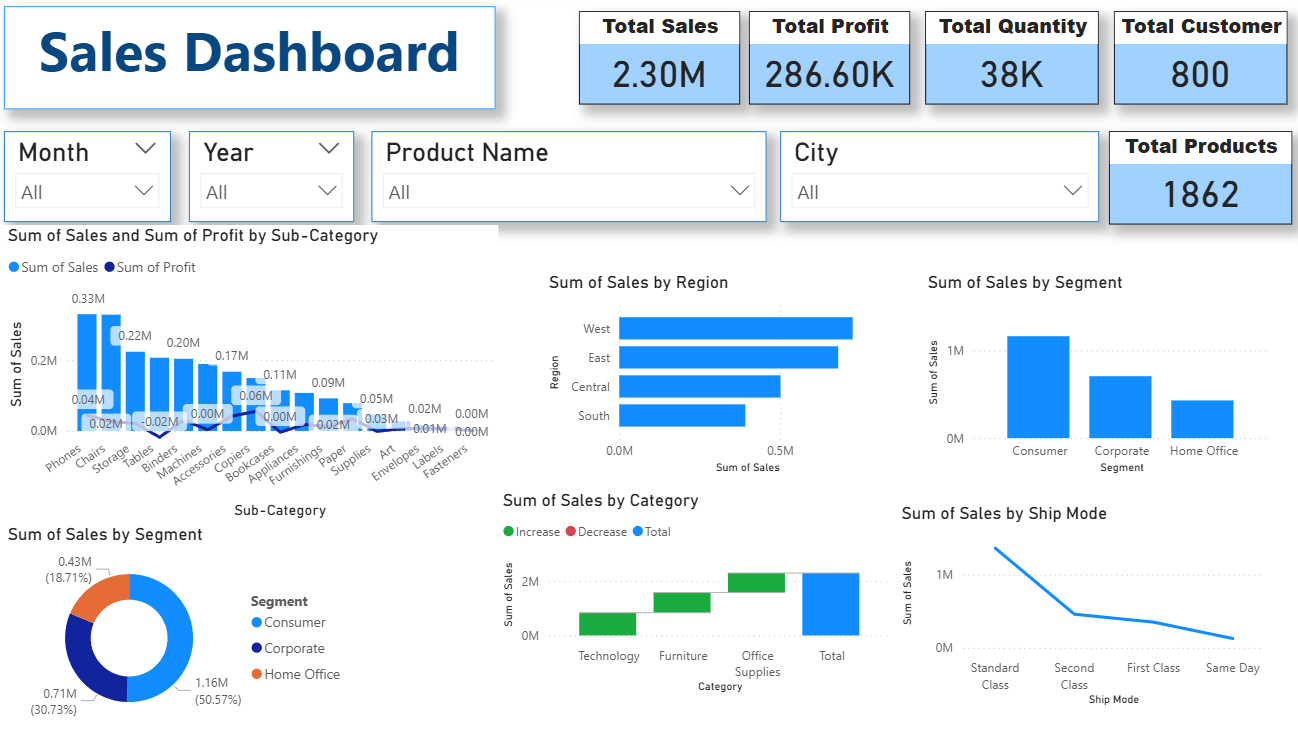

Layout of this report page (visuals, bound fields, positions):
{"tool":"powerbi","page":{"name":"Page 1","canvas":[1280,720],"ordinal":0},"visuals":[{"type":"textbox","box":[9.4,10.8,480.6,101],"z":0},{"type":"slicer","fields":{"Values":["Sales Overview Data xlsx - Sales Data.Product Name"]},"box":[368.9,133.3,386.4,88.9],"z":1000},{"type":"slicer","fields":{"Values":["Sales Overview Data xlsx - Sales Data.City"]},"box":[768.7,133.3,312.3,88.9],"z":2000},{"type":"slicer","fields":{"Values":["Sales Overview Data xlsx - Sales Data.Order Date.Variation.Date Hierarchy.Month"]},"box":[9.4,133.3,162.9,88.9],"z":3000},{"type":"slicer","fields":{"Values":["Sales Overview Data xlsx - Sales Data.Order Date.Variation.Date Hierarchy.Year"]},"box":[191.2,133.3,161.5,88.9],"z":4000},{"type":"card","title":"Total Sales","fields":{"Values":["Sum(Sales Overview Data xlsx - Sales Data.Sales)"]},"box":[572.2,16.2,157.5,91.5],"z":5000},{"type":"card","title":"Total Profit","fields":{"Values":["Sum(Sales Overview Data xlsx - Sales Data.Profit)"]},"box":[739.1,16.2,157.5,91.5],"z":6000},{"type":"card","title":"Total Quantity","fields":{"Values":["Sum(Sales Overview Data xlsx - Sales Data.Quantity)"]},"box":[911.4,16.2,169.6,91.5],"z":7000},{"type":"card","title":"Total Customer","fields":{"Values":["Count(Sales Overview Data xlsx - Sales Data.Customer ID)"]},"box":[1095.8,16.2,169.6,91.5],"z":8000},{"type":"card","title":"Total Products","fields":{"Values":["Count(Sales Overview Data xlsx - Sales Data.Product ID)"]},"box":[1090.5,133.3,179,91.5],"z":9000},{"type":"waterfallChart","fields":{"Category":["Sales Overview Data xlsx - Sales Data.Category"],"Y":["Sum(Sales Overview Data xlsx - Sales Data.Sales)"]},"box":[492.7,484.6,390.4,203.3],"z":10000},{"type":"barChart","fields":{"Category":["Sales Overview Data xlsx - Sales Data.Region"],"Y":["Sum(Sales Overview Data xlsx - Sales Data.Sales)"]},"box":[538.5,270.6,344.6,203.3],"z":11000},{"type":"clusteredColumnChart","fields":{"Category":["Sales Overview Data xlsx - Sales Data.Segment"],"Y":["Sum(Sales Overview Data xlsx - Sales Data.Sales)"]},"box":[908.7,270.6,344.6,203.3],"z":12000},{"type":"lineChart","fields":{"Category":["Sales Overview Data xlsx - Sales Data.Ship Mode"],"Y":["Sum(Sales Overview Data xlsx - Sales Data.Sales)"]},"box":[883.1,496.8,370.2,203.3],"z":13000},{"type":"donutChart","fields":{"Y":["Sum(Sales Overview Data xlsx - Sales Data.Sales)"],"Category":["Sales Overview Data xlsx - Sales Data.Segment"]},"box":[8.1,517,344.6,203.3],"z":14000},{"type":"lineClusteredColumnComboChart","fields":{"Y":["Sum(Sales Overview Data xlsx - Sales Data.Sales)"],"Category":["Sales Overview Data xlsx - Sales Data.Sub-Category"],"Y2":["Sum(Sales Overview Data xlsx - Sales Data.Profit)"]},"box":[8.1,224.8,484.6,292.1],"z":15000}]}

Visuals, with their boxes in screenshot pixels (x1, y1, x2, y2), scaled from the page's 1280x720 canvas onto the 1298x731 screenshot:
textbox: bbox=[10, 11, 497, 114]
slicer - Sales Overview Data xlsx - Sales Data.Product Name: bbox=[374, 135, 766, 226]
slicer - Sales Overview Data xlsx - Sales Data.City: bbox=[780, 135, 1096, 226]
slicer - Sales Overview Data xlsx - Sales Data.Order Date.Variation.Date Hierarchy.Month: bbox=[10, 135, 175, 226]
slicer - Sales Overview Data xlsx - Sales Data.Order Date.Variation.Date Hierarchy.Year: bbox=[194, 135, 358, 226]
"Total Sales" card: bbox=[580, 16, 740, 109]
"Total Profit" card: bbox=[749, 16, 909, 109]
"Total Quantity" card: bbox=[924, 16, 1096, 109]
"Total Customer" card: bbox=[1111, 16, 1283, 109]
"Total Products" card: bbox=[1106, 135, 1287, 228]
waterfallChart - Sales Overview Data xlsx - Sales Data.Category x Sum(Sales Overview Data xlsx - Sales Data.Sales): bbox=[500, 492, 896, 698]
barChart - Sales Overview Data xlsx - Sales Data.Region x Sum(Sales Overview Data xlsx - Sales Data.Sales): bbox=[546, 275, 896, 481]
clusteredColumnChart - Sales Overview Data xlsx - Sales Data.Segment x Sum(Sales Overview Data xlsx - Sales Data.Sales): bbox=[921, 275, 1271, 481]
lineChart - Sales Overview Data xlsx - Sales Data.Ship Mode x Sum(Sales Overview Data xlsx - Sales Data.Sales): bbox=[896, 504, 1271, 711]
donutChart - Sum(Sales Overview Data xlsx - Sales Data.Sales) x Sales Overview Data xlsx - Sales Data.Segment: bbox=[8, 525, 358, 730]
lineClusteredColumnComboChart - Sum(Sales Overview Data xlsx - Sales Data.Sales) x Sales Overview Data xlsx - Sales Data.Sub-Category: bbox=[8, 228, 500, 525]
